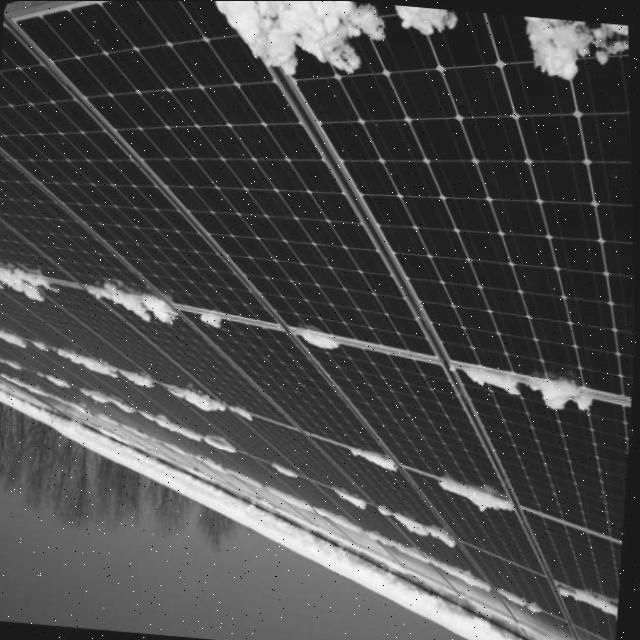Anomaly Solar Panel: (236, 0, 637, 402), (12, 0, 443, 362), (295, 277, 534, 538), (182, 273, 400, 487), (87, 261, 303, 451), (424, 349, 632, 541), (28, 261, 230, 424), (40, 335, 246, 452), (314, 411, 456, 559), (385, 461, 564, 577), (237, 388, 371, 524), (171, 372, 299, 487), (501, 506, 622, 606), (372, 507, 500, 588), (314, 465, 418, 564), (447, 545, 577, 623), (0, 209, 87, 288), (544, 584, 618, 640)
Snow: (197, 0, 393, 83), (515, 15, 632, 87), (462, 364, 597, 418), (84, 279, 181, 331), (438, 469, 514, 528), (383, 503, 459, 556), (0, 256, 64, 312), (159, 375, 230, 423), (552, 580, 618, 624), (387, 4, 464, 41), (49, 343, 119, 381), (332, 480, 374, 521), (347, 451, 399, 476), (115, 368, 158, 395), (303, 335, 342, 355), (203, 310, 227, 332)
